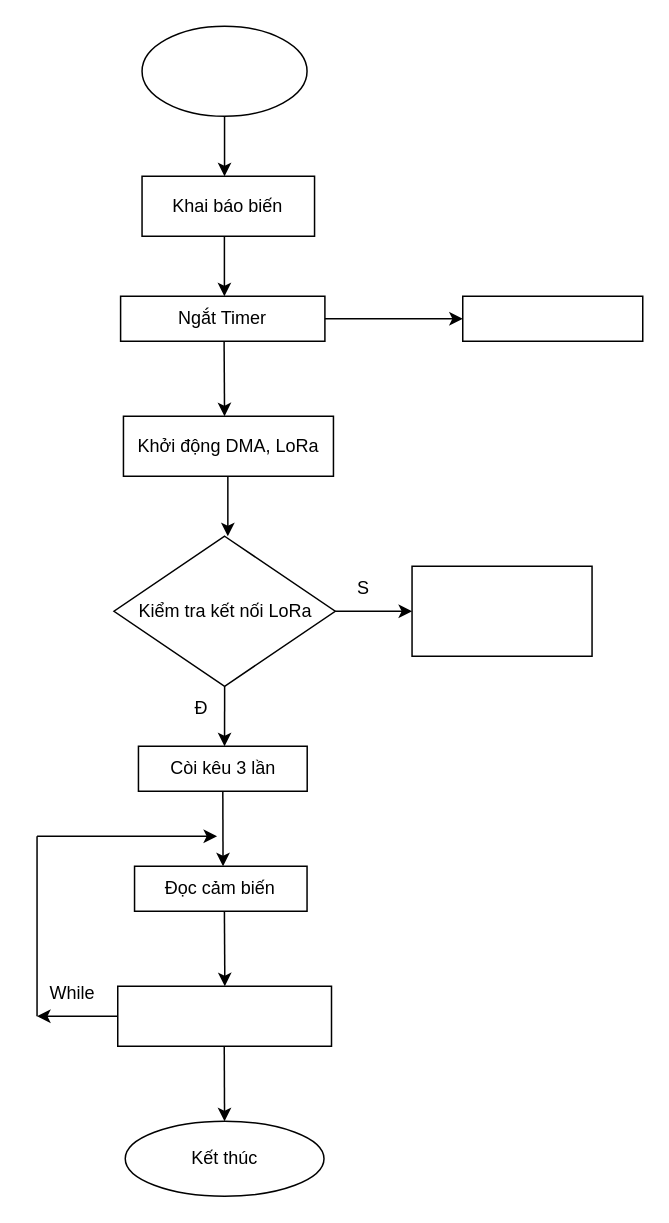
The diagram is 669 pixels wide and 1223 high, and some of its shapes have lost their labels. Each missing label, with the centre of its shape:
Bật motor 5s tắt 30s: (x=552, y=318)
Bắt đầu: (x=224, y=70)
Chóp tắt led connect: (x=501, y=610)
Truyền giá trị cảm biến: (x=224, y=1015)
